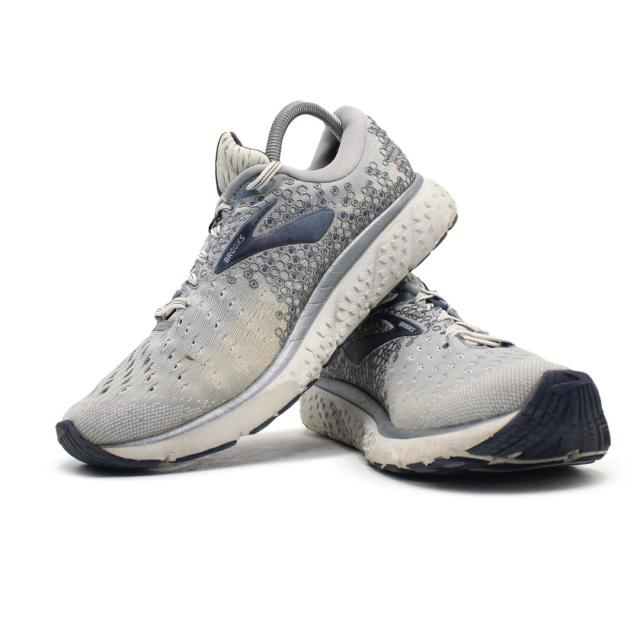heel: (334, 99, 412, 204)
midsole: (54, 175, 461, 475), (301, 372, 610, 467)
uppersole: (63, 132, 385, 441), (331, 276, 581, 425)
